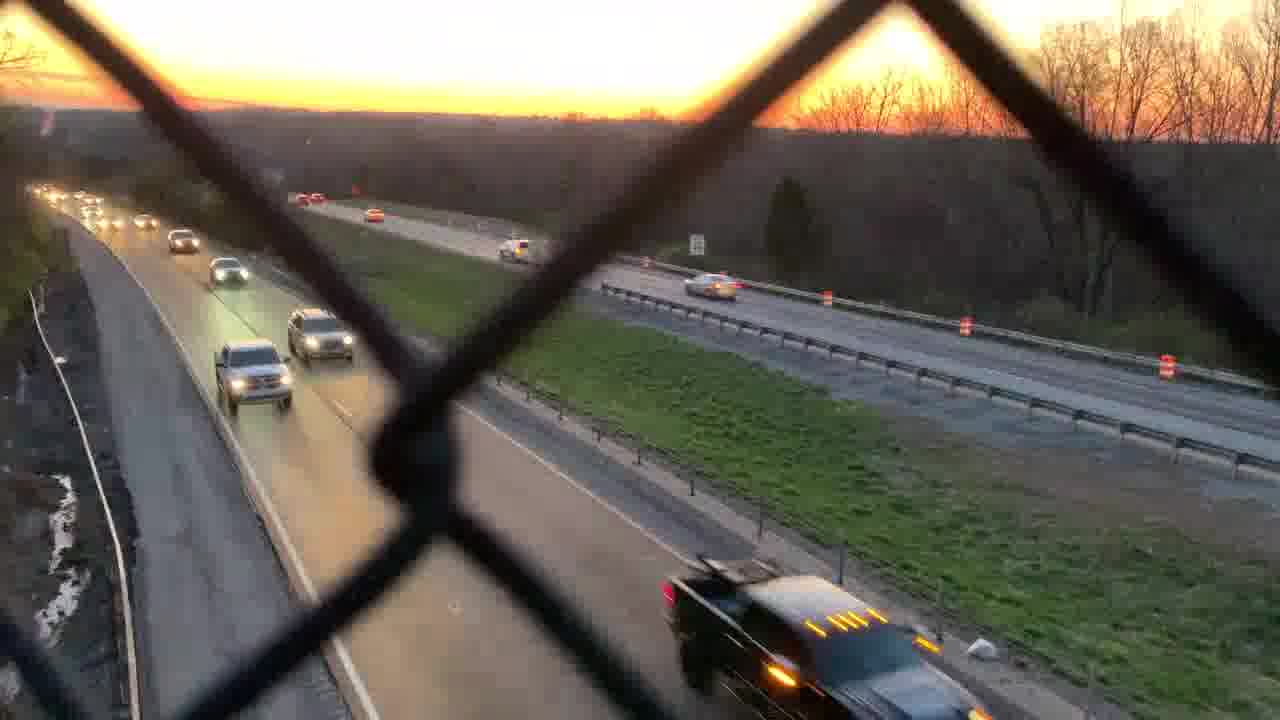largeCar: (285, 307, 357, 366)
lightTruck: (666, 541, 992, 720), (206, 337, 295, 409)
smallCar: (683, 268, 738, 299), (208, 254, 251, 289)
